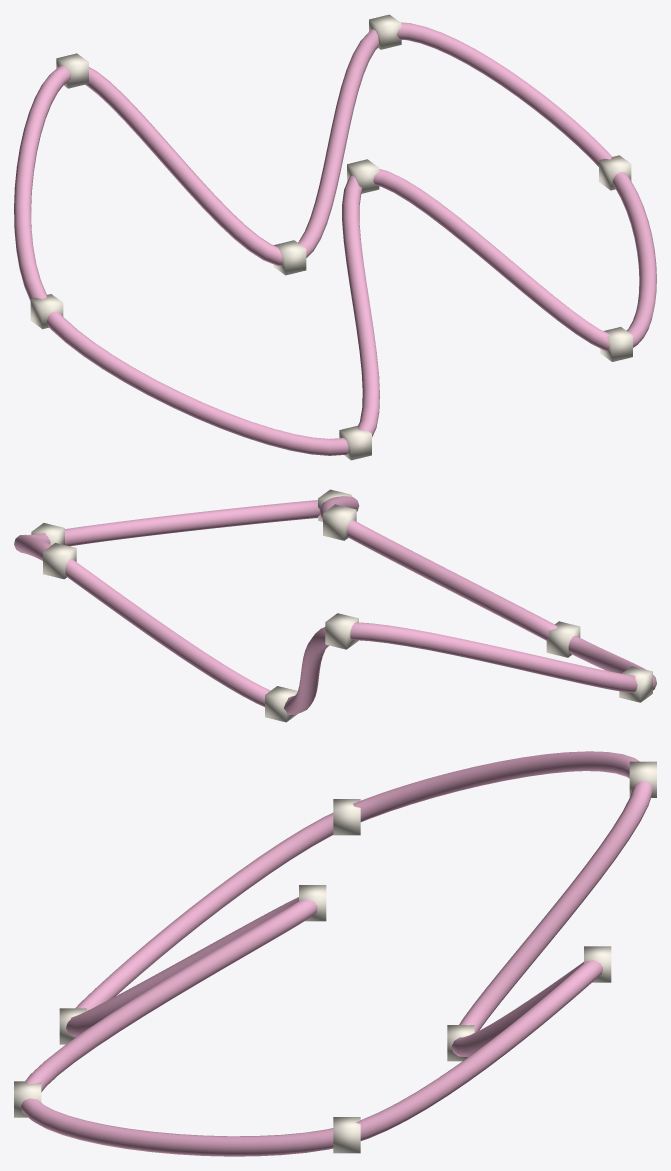
File: example.gltf
3 views of the same model, one above another, from view 1: azimuth 30°, elevation 25°; view 2: azimuth 150°, elevation 25°; view 3: azimuth 270°, elevation 25° (orthographic). The views are drawn at different scales.
Visible parts, largest first — view 1: catmull_rom, controls; view 2: catmull_rom, controls; view 3: catmull_rom, controls.
Boxes of the visible parts, box(x1,y1,x2,y2) form: catmull_rom: box(14, 22, 656, 455); controls: box(30, 14, 632, 460); catmull_rom: box(14, 496, 656, 714); controls: box(31, 489, 652, 722); catmull_rom: box(21, 751, 652, 1156); controls: box(14, 761, 656, 1153).
Bounding box in the file's own units: 3.42 × 1.22 × 2.82.
